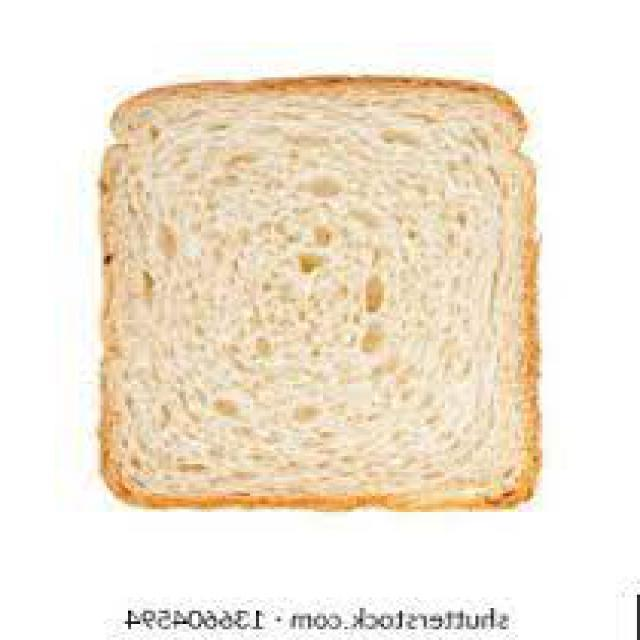Bread: (99, 79, 540, 512)
